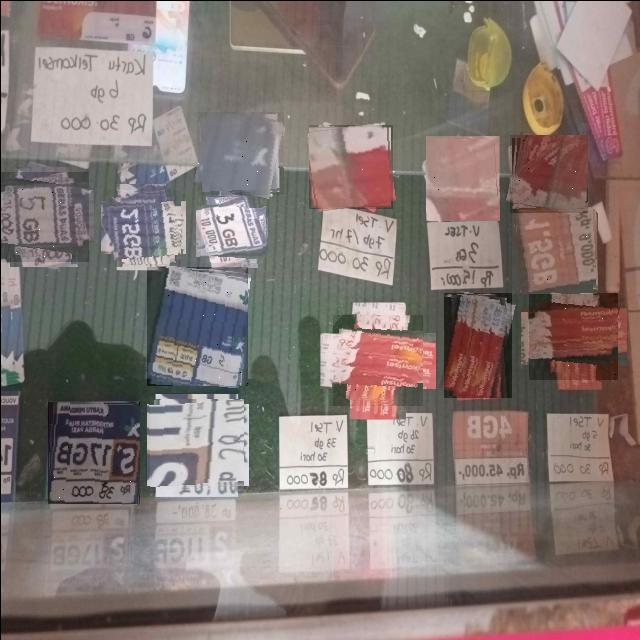Gratis Nelpon: (146, 266, 247, 385), (47, 401, 139, 503), (149, 398, 243, 490), (0, 171, 88, 261), (197, 111, 283, 194), (105, 189, 180, 263), (200, 199, 262, 262)
Telkomsel: (332, 314, 422, 405), (528, 292, 617, 379), (511, 208, 596, 293), (443, 292, 511, 397), (308, 124, 392, 208), (425, 135, 499, 220), (509, 134, 587, 212)
